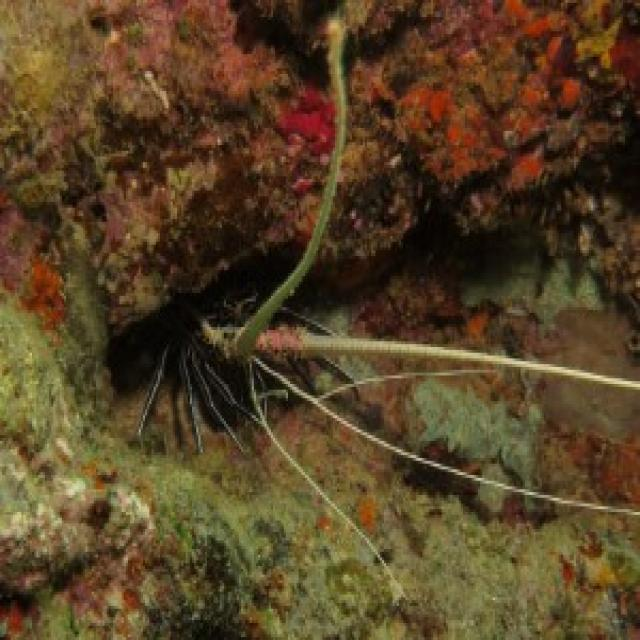lobsters: (82, 93, 491, 571)
